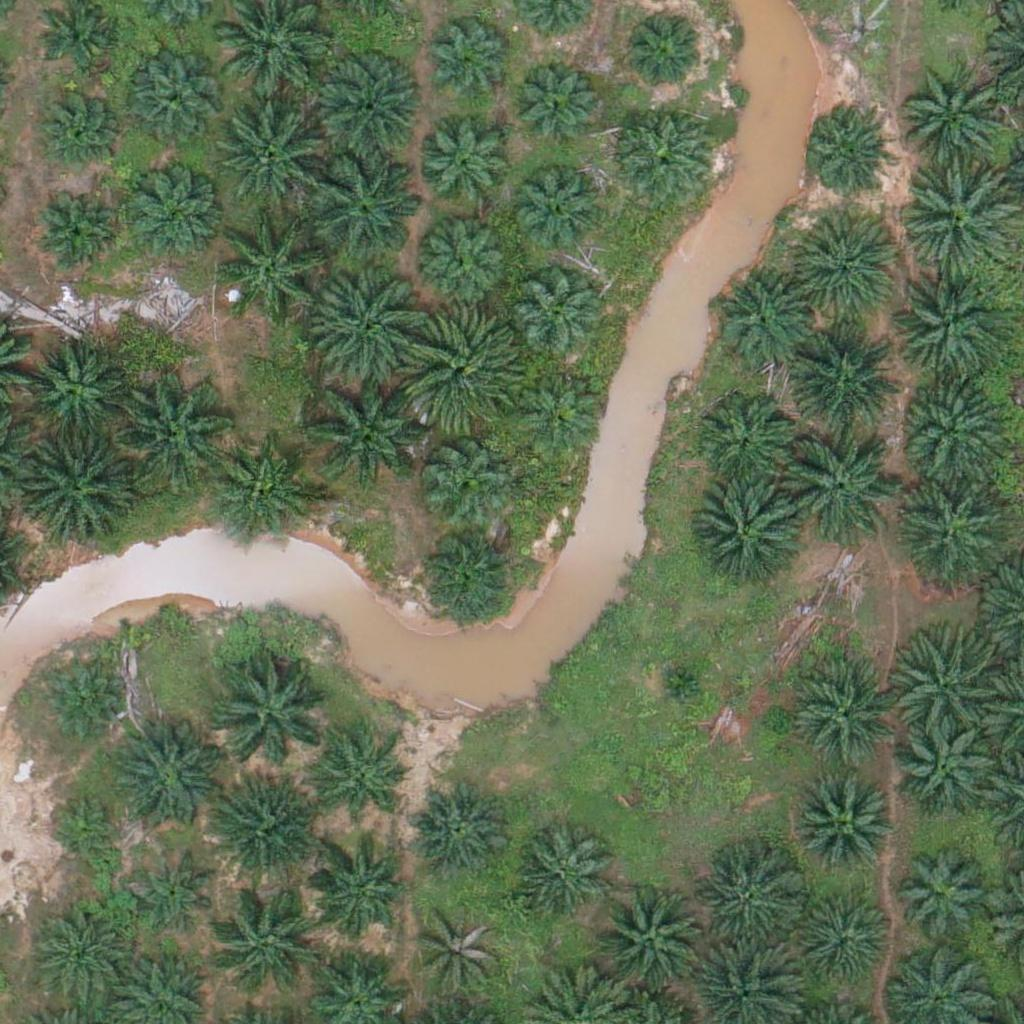Kelapa_Sawit: (900, 369, 1013, 483), (17, 432, 130, 546), (891, 274, 1004, 388), (789, 210, 902, 324), (306, 47, 419, 161), (688, 481, 801, 594), (214, 650, 327, 763), (108, 723, 221, 836), (405, 311, 518, 424), (310, 145, 423, 258), (213, 881, 325, 995), (788, 318, 900, 432), (317, 272, 429, 386), (892, 472, 1004, 585), (892, 620, 1004, 733), (780, 429, 892, 542), (594, 883, 706, 996), (306, 374, 418, 487), (204, 778, 316, 891), (117, 374, 229, 487), (902, 51, 1014, 164), (906, 165, 1018, 278), (218, 211, 330, 324), (218, 102, 330, 215), (893, 848, 993, 949), (894, 718, 994, 819), (695, 391, 795, 492), (510, 824, 610, 925), (306, 844, 406, 945), (614, 103, 714, 204), (506, 164, 606, 265), (123, 57, 223, 158), (24, 338, 124, 439), (714, 271, 814, 372), (795, 669, 895, 769), (796, 778, 896, 878), (796, 894, 896, 994), (698, 854, 798, 954), (416, 526, 516, 626), (407, 779, 507, 879), (213, 447, 313, 547), (31, 905, 131, 1005), (416, 210, 516, 310), (420, 114, 520, 214), (122, 163, 222, 263), (420, 433, 508, 521), (131, 851, 219, 939), (36, 659, 124, 747), (517, 368, 605, 456), (426, 17, 514, 105), (34, 192, 122, 280), (416, 910, 503, 998), (318, 740, 405, 828), (802, 104, 889, 192), (621, 6, 708, 94), (515, 276, 602, 364), (510, 55, 597, 143), (32, 82, 119, 170), (48, 790, 123, 865), (653, 656, 703, 707)
